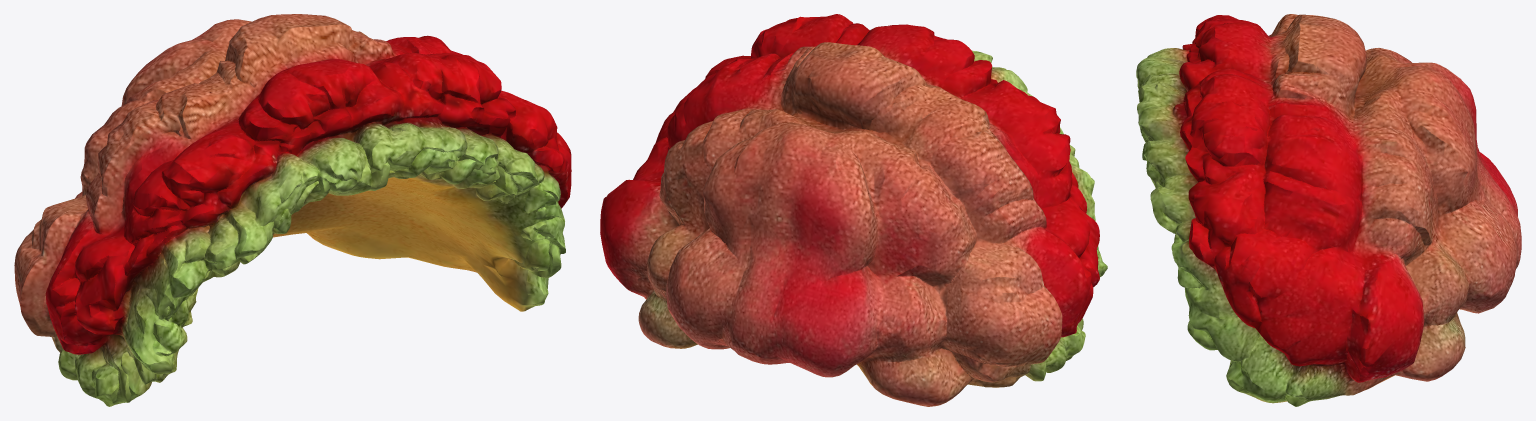
The model's file is taco-hat.glb.
3 renders of one model, left to right at view 1: azimuth 30°, elevation 25°; view 2: azimuth 150°, elevation 25°; view 3: azimuth 270°, elevation 25°, orthographic. The views are drawn at different scales.
Visible parts, largest first — view 1: trim (×2); view 2: trim; view 3: trim.
Part boxes in pixels (<box>): trim (×2): <box>14,14,571,406</box>; trim: <box>600,14,1107,406</box>; trim: <box>1136,14,1521,406</box>.
Bounding box in the file's own units: 1.49 × 0.8946 × 1.09.
2 materials, 2 textured.
